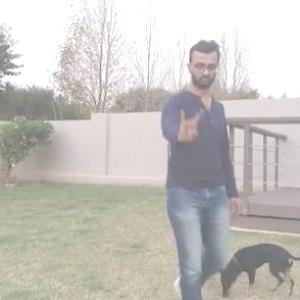takeoff-hand: (170, 101, 206, 148)
